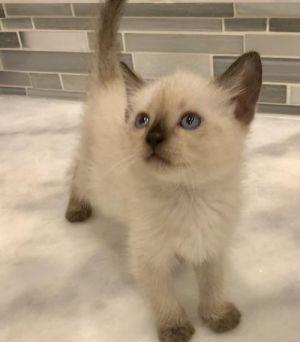siamese: (113, 45, 270, 196)
